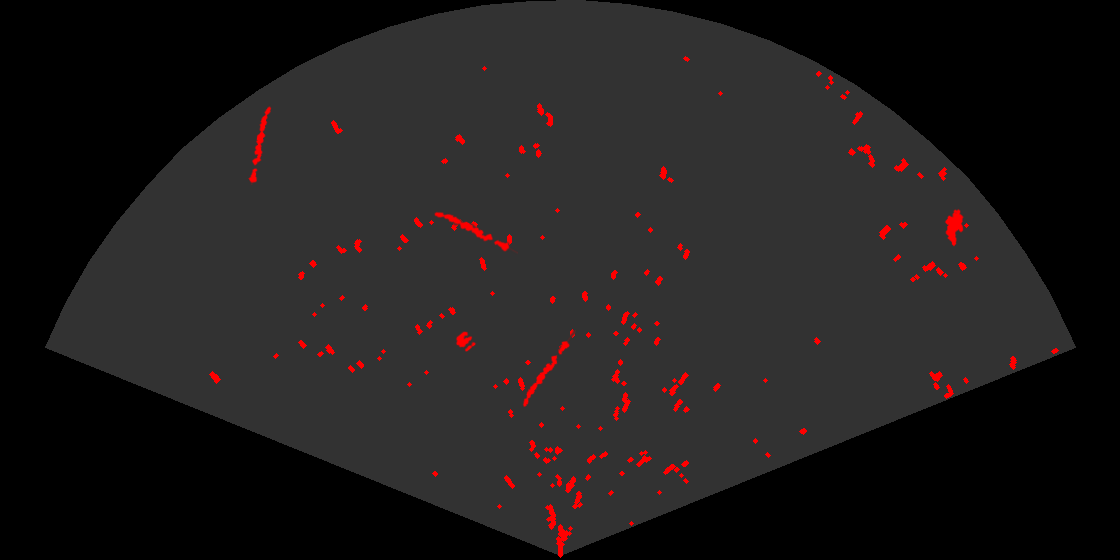AUV: (943, 207, 965, 248)
ball: (454, 330, 478, 353)
chain: (521, 330, 576, 409), (433, 210, 518, 255), (247, 104, 273, 185)
